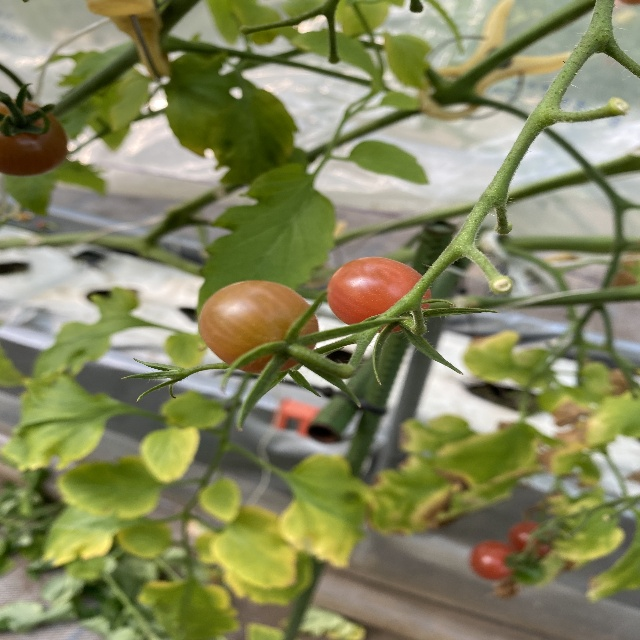l_fully_ripened: (326, 256, 432, 334)
l_half_ripened: (199, 281, 319, 375), (0, 99, 68, 176)
